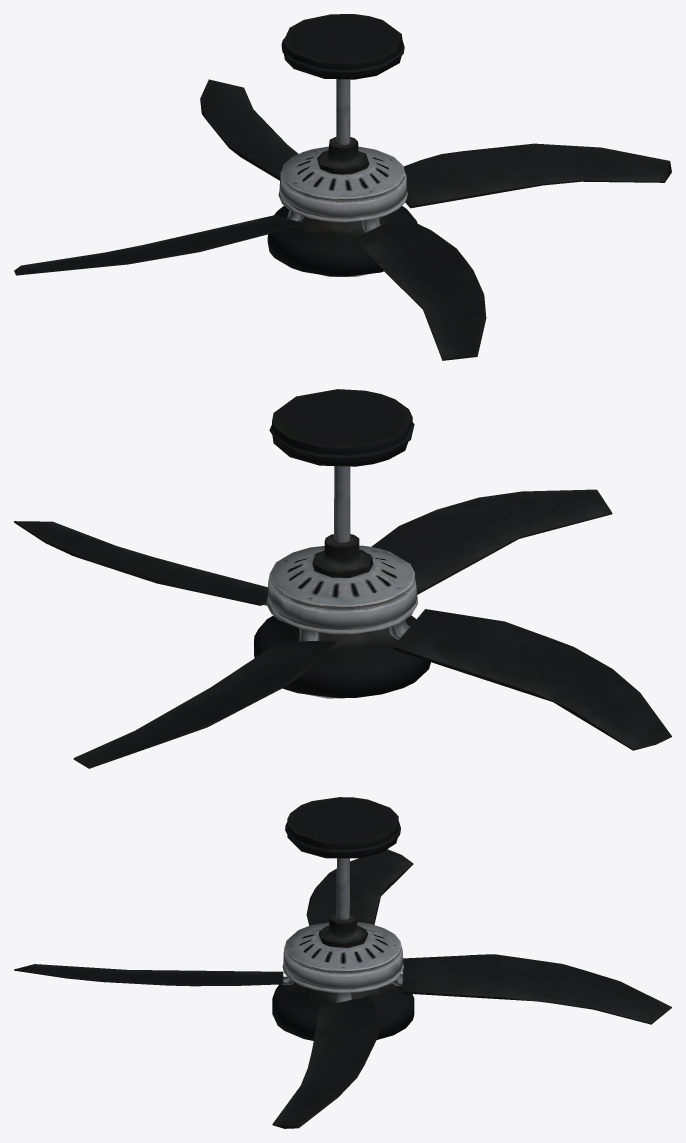
Rendered from ceiling_fan.glb.
3 renders of one model, top to bottom at view 1: azimuth 30°, elevation 25°; view 2: azimuth 150°, elevation 25°; view 3: azimuth 270°, elevation 25°, orthographic. The views are drawn at different scales.
Parts seen in each view (by area): view 1: ceiling_fan; view 2: ceiling_fan; view 3: ceiling_fan.
Part boxes in pixels (x1,y1,x2,y2): ceiling_fan: (14,14,671,360); ceiling_fan: (14,389,671,768); ceiling_fan: (14,797,671,1128).
Size of the model in its own units: 1.46 by 0.5163 by 1.46.
Materials: 1 (1 with a texture image).
